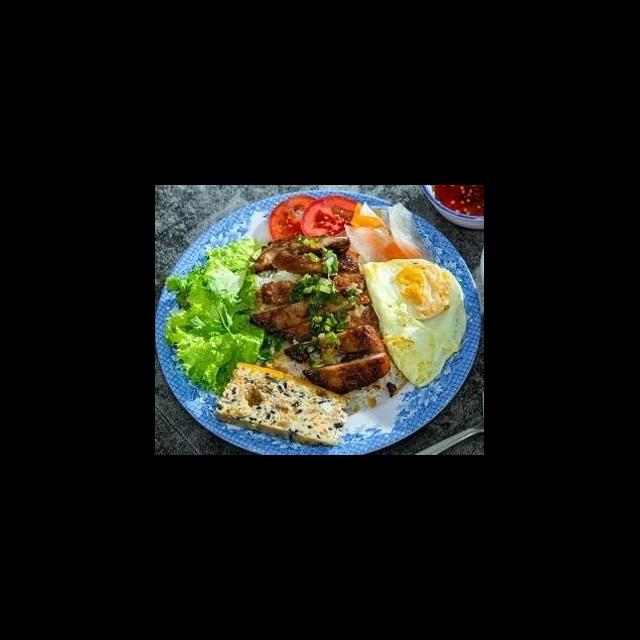cha: (214, 359, 352, 449)
com: (337, 360, 408, 418), (260, 335, 314, 384)
com suon bi cha trung: (167, 199, 481, 455)
dua chua: (342, 198, 436, 271)
suon: (247, 233, 393, 397)
trung: (356, 256, 468, 390)
